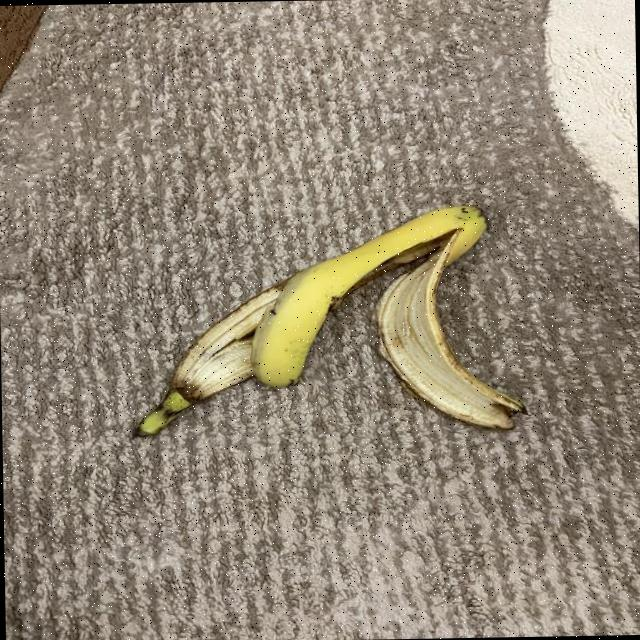banana-peel: (129, 200, 527, 440), (245, 202, 489, 389), (372, 227, 528, 433), (130, 280, 287, 438)
